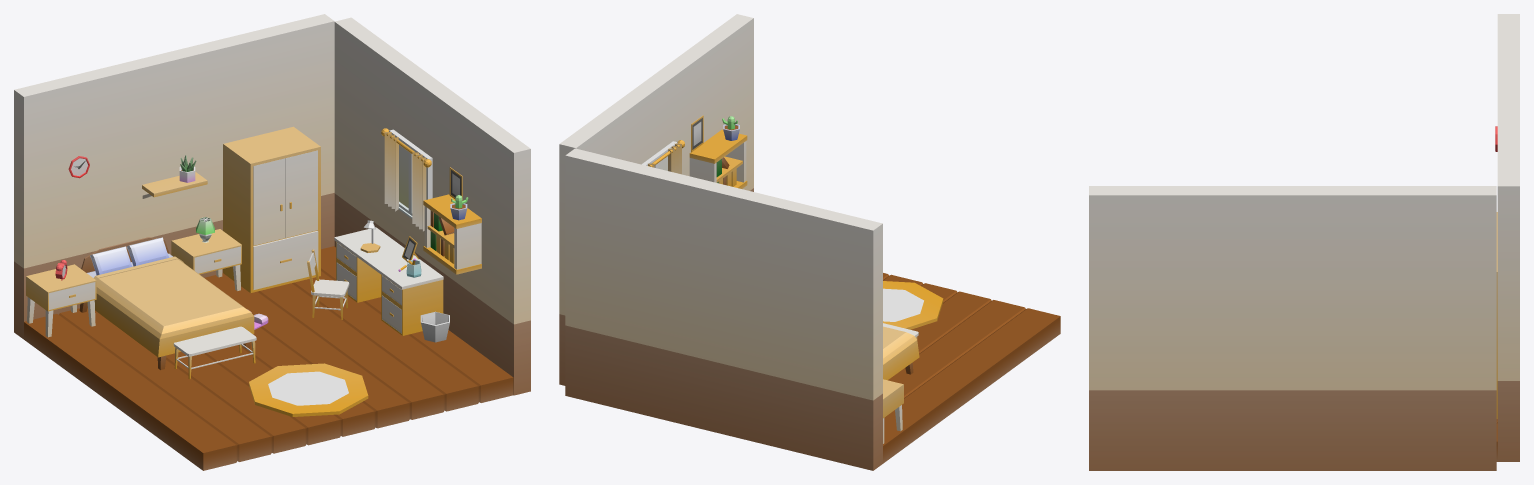
The model's file is Room.fbx.
3 renders of one model, left to right at view 1: azimuth 30°, elevation 25°; view 2: azimuth 150°, elevation 25°; view 3: azimuth 270°, elevation 25°, orthographic. The views are drawn at different scales.
Visible parts, largest first — view 1: wall, floor, MSH_Bed, MSH_Desk, MSH_Wardrobe, MSH_Carpet, MSH_Windows, MSH_Shelving, MSH_Wardrobe_Bot, MSH_Wardrobe_L, MSH_Wardrobe_R, MSH_Sidetable_001 (+7 smaller); view 2: wall, floor, MSH_Carpet, MSH_Shelving, MSH_Bed, MSH_Sidetable_001, MSH_Windows; view 3: wall.
Part boxes in pixels (box(x1,y1,x2,y2)): wall: box(14, 14, 530, 395); floor: box(24, 246, 513, 470); MSH_Bed: box(79, 237, 254, 369); MSH_Desk: box(334, 227, 443, 335); MSH_Wardrobe: box(223, 126, 320, 293); MSH_Carpet: box(249, 363, 368, 416); MSH_Windows: box(381, 128, 432, 231); MSH_Shelving: box(423, 194, 481, 274); MSH_Wardrobe_Bot: box(253, 230, 318, 289); MSH_Wardrobe_L: box(285, 150, 317, 237); MSH_Wardrobe_R: box(253, 158, 285, 245); MSH_Sidetable_001: box(26, 264, 96, 337); wall: box(559, 14, 882, 470); floor: box(883, 273, 1060, 463); MSH_Carpet: box(883, 281, 943, 329); MSH_Shelving: box(689, 129, 747, 188); MSH_Bed: box(883, 326, 919, 380); MSH_Sidetable_001: box(883, 379, 903, 443); MSH_Windows: box(641, 140, 684, 174); wall: box(1089, 14, 1519, 470).
Size of the model in its own units: 479 by 481 by 340.
Materials: 1 (1 with a texture image).
